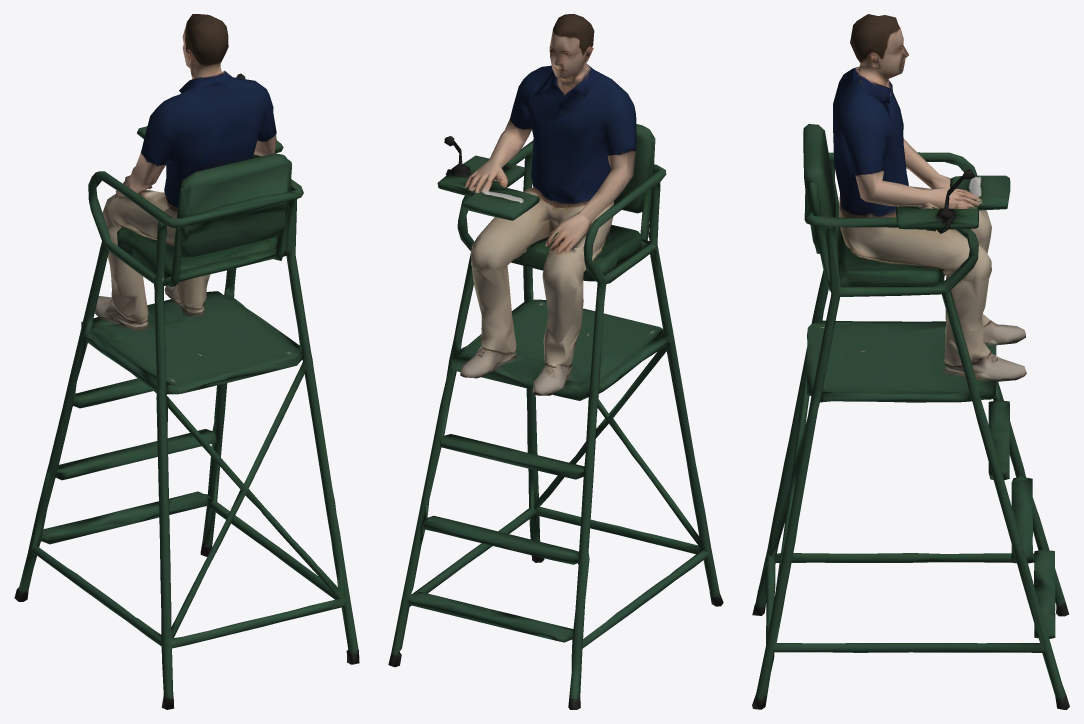
File: schiedsrichter.glb
The picture shows the model from 3 angles, left to right: view 1: azimuth 30°, elevation 25°; view 2: azimuth 150°, elevation 25°; view 3: azimuth 270°, elevation 25°; orthographic projection. The views are drawn at different scales.
Visible parts, largest first — view 1: tripo_node_b724bed5-1558-411c-85cd-1ada23da99f4; view 2: tripo_node_b724bed5-1558-411c-85cd-1ada23da99f4; view 3: tripo_node_b724bed5-1558-411c-85cd-1ada23da99f4.
Boxes of the visible parts, box(x1,y1,x2,y2) form: tripo_node_b724bed5-1558-411c-85cd-1ada23da99f4: box(14, 14, 359, 709); tripo_node_b724bed5-1558-411c-85cd-1ada23da99f4: box(388, 14, 723, 709); tripo_node_b724bed5-1558-411c-85cd-1ada23da99f4: box(752, 14, 1069, 709).
Bounding box in the file's own units: 0.3284 × 1 × 0.4458.
Materials: 1 (1 with a texture image).
